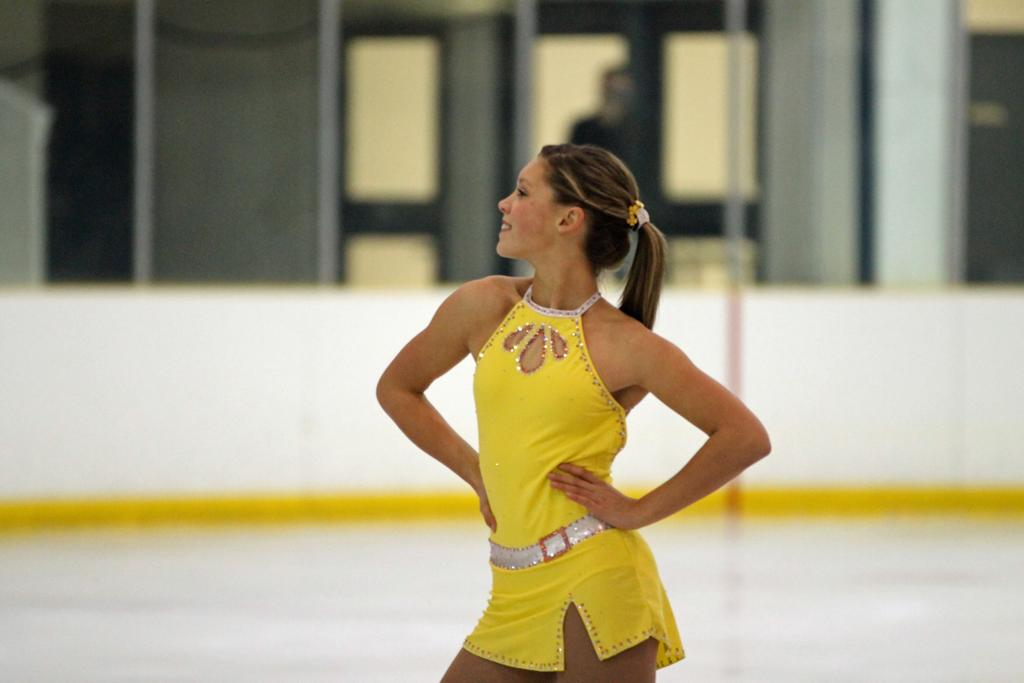face: (498, 156, 560, 256)
